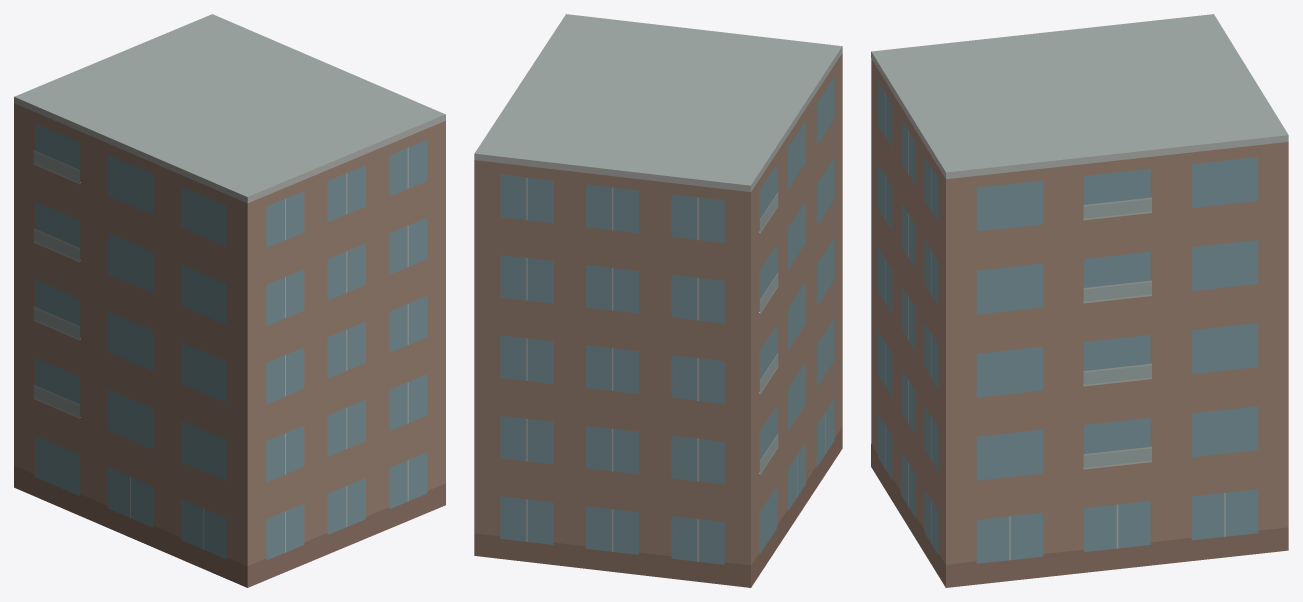
File: survey-upis-33021168.glb
3 renders of one model, left to right at view 1: azimuth 30°, elevation 25°; view 2: azimuth 150°, elevation 25°; view 3: azimuth 270°, elevation 25°, orthographic. The views are drawn at different scales.
Parts seen in each view (by area): view 1: survey-upis-33021168.tmp; view 2: survey-upis-33021168.tmp; view 3: survey-upis-33021168.tmp.
Part boxes in pixels (x1,y1,x2,y2): survey-upis-33021168.tmp: [14, 14, 445, 587]; survey-upis-33021168.tmp: [474, 14, 842, 587]; survey-upis-33021168.tmp: [871, 14, 1288, 587].
Bounding box in the file's own units: 12.45 × 15.2 × 13.86.
